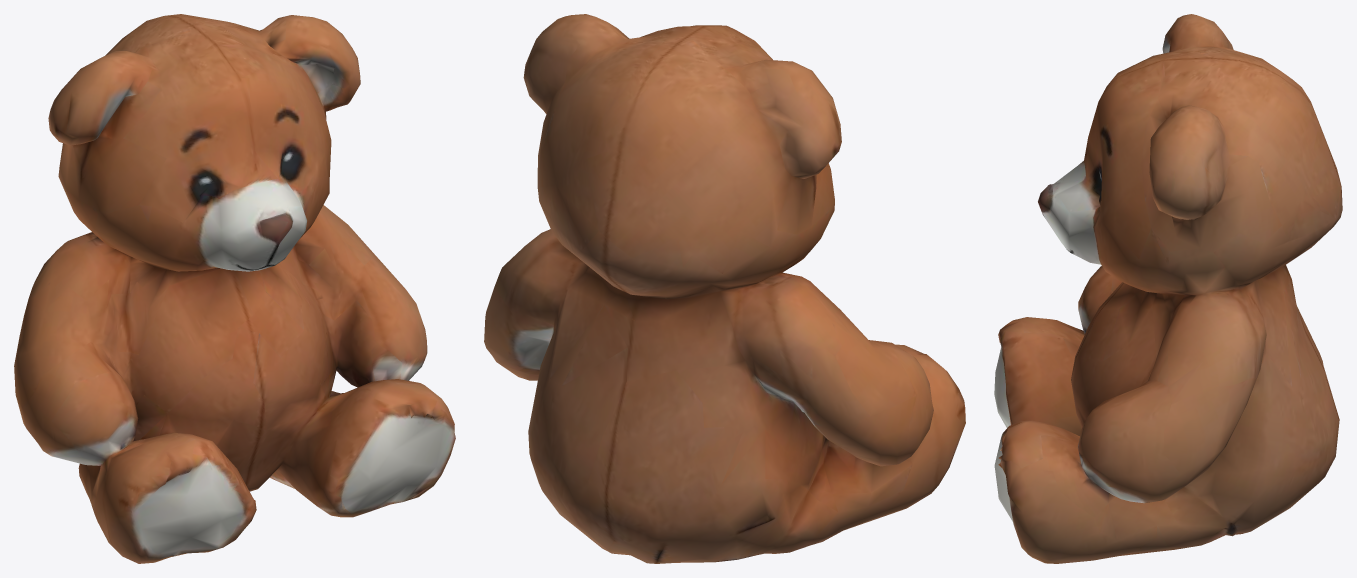
File: teddy-bear.glb
3 views of the same model, side by side, from view 1: azimuth 30°, elevation 25°; view 2: azimuth 150°, elevation 25°; view 3: azimuth 270°, elevation 25° (orthographic). The views are drawn at different scales.
Size of the model in its own units: 1.79 by 2 by 1.43.
1 material, 1 textured.
